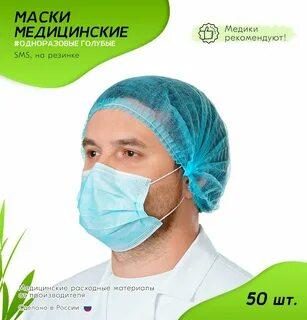hairnet: (83, 64, 266, 217)
mask: (48, 153, 171, 272)
